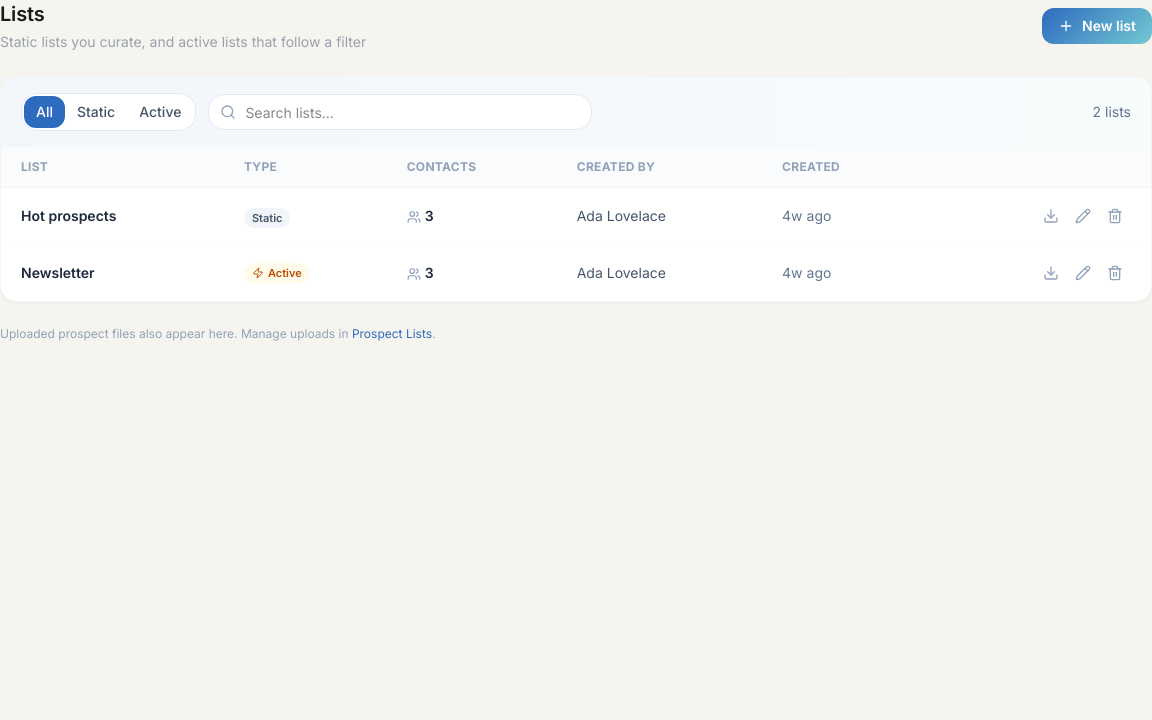
Test case: Lists page › shows the duplicate-name message from the API
Check: the text "Hot prospects" is shown, box [21,207,116,224]
Click the button "New list".
click(1097, 26)  # box [1042,8,1151,44]
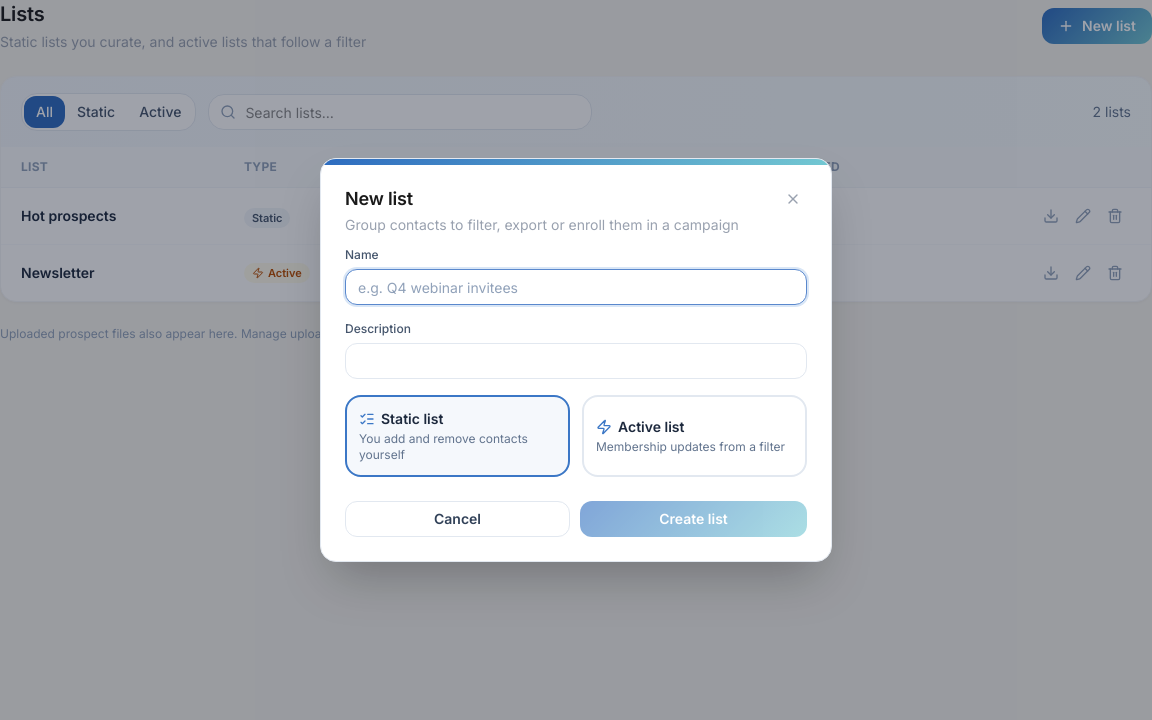
Type "Hot prospects" into the field with placeholder "e.g. Q4 webinar invitees".
click(576, 287); type("Hot prospects")  # box [345,269,807,305]
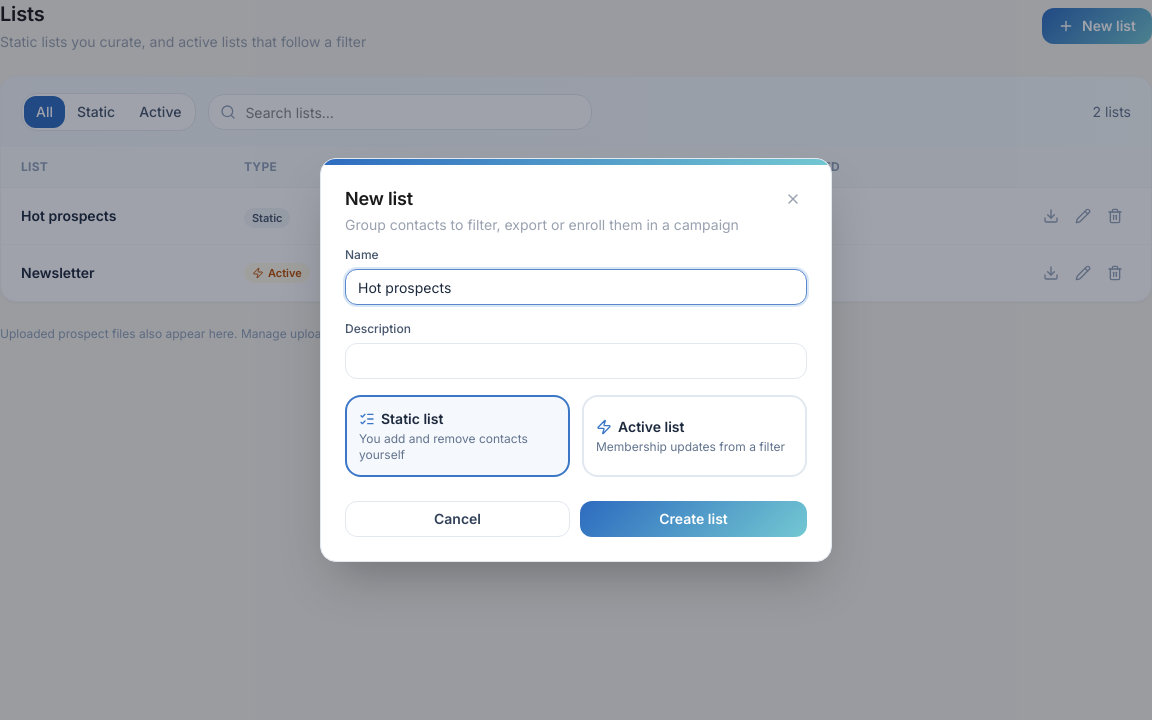
Click the button "Create list".
click(694, 519)  # box [580,501,807,537]
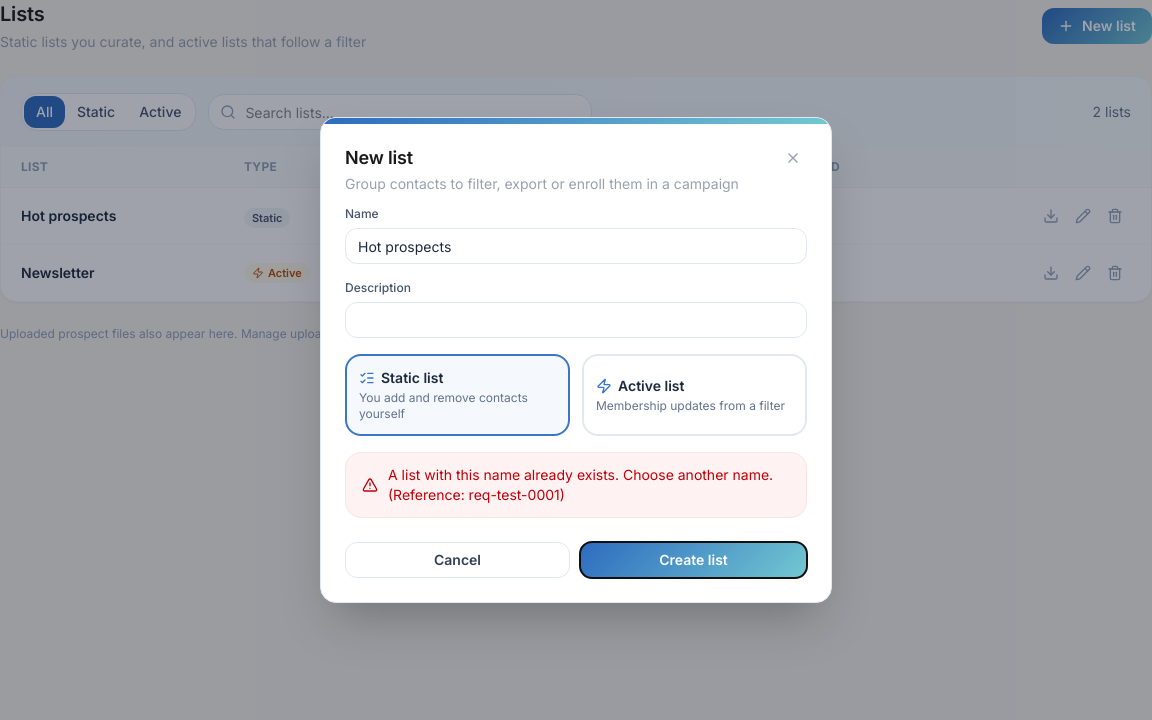
Check: the text "already exists" is shown, box [388,466,773,503]
